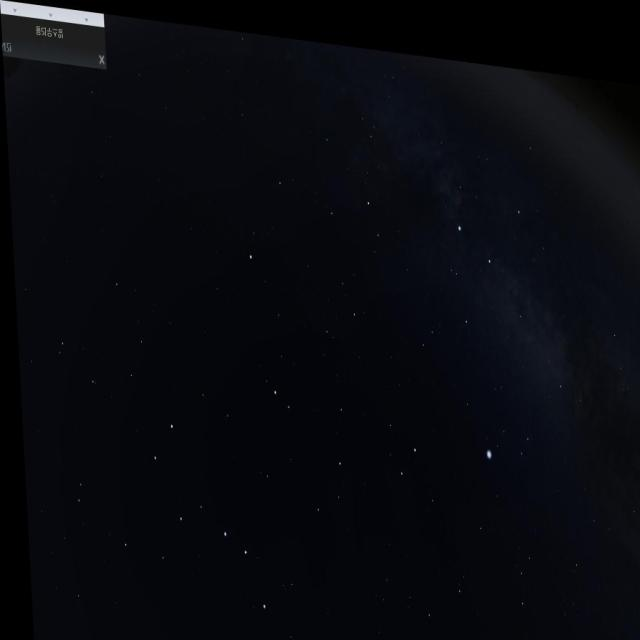cygnus: (442, 170, 567, 396)
lyra: (472, 398, 528, 460)
ursa_major: (135, 407, 266, 627)
